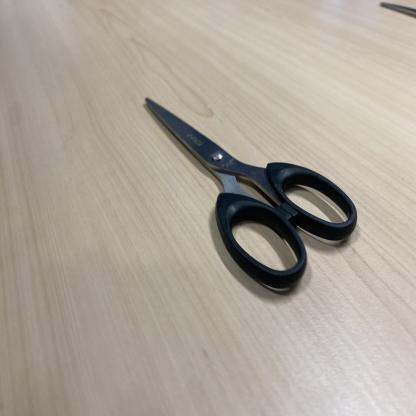scissors: (144, 96, 359, 290)
